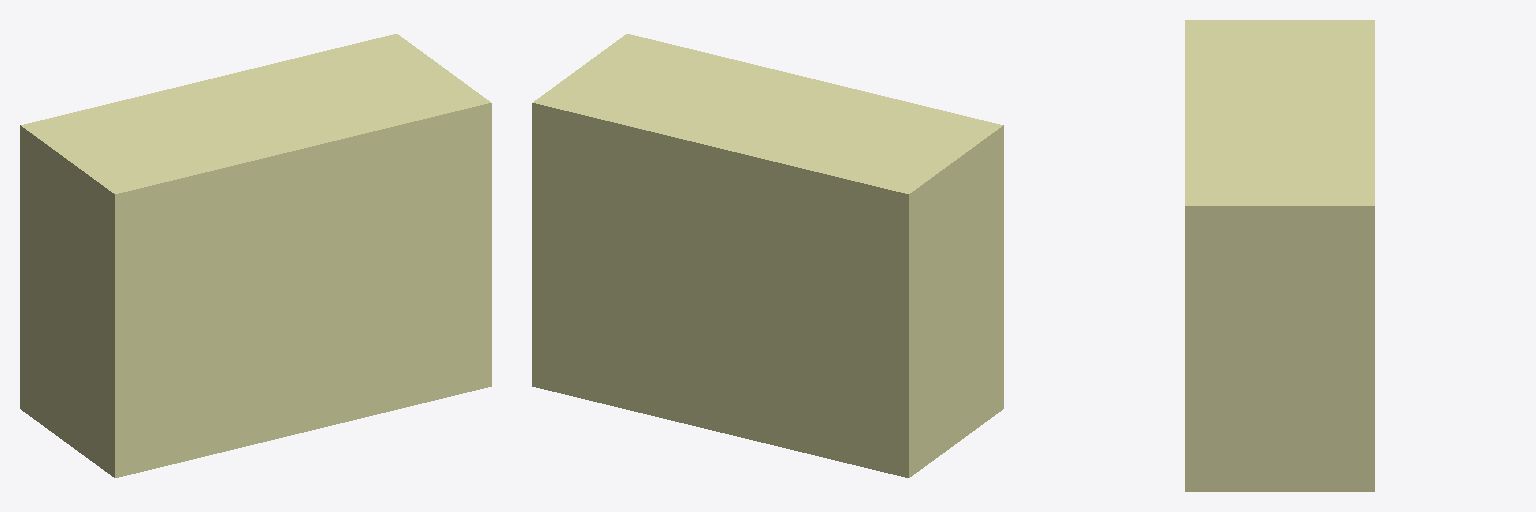
robot.urdf — box.urdf:
<?xml version="1.0" ?>
<robot name="box.urdf">
  <link name="baseLink">
    <contact>
      <lateral_friction value="1.0"/>
      <rolling_friction value="0.0001"/>
      <inertia_scaling value="3.0"/>
    </contact>
    <inertial>
      <origin rpy="0 0 0" xyz="0 0 0"/>
       <mass value="0.1"/>
       <inertia ixx="1" ixy="0" ixz="0" iyy="1" iyz="0" izz="1"/>
    </inertial>
    <visual>
      <origin rpy="0 0 0" xyz="0 0 0"/>
      <geometry>
        <!-- <box size="0.315 0.13699999999999998 0.22699999999999998"/> -->
        <mesh filename="box/box.obj" scale="0.315 0.13699999999999998 0.22699999999999998"/>
      </geometry>
      <material name="white">
        <color rgba="0.9 0.9 0.7 1"/>
      </material>
    </visual>
    <collision>
      <origin rpy="0 0 0" xyz="0 0 0"/>
      <geometry>
        <mesh filename="box/box.obj" scale="0.315 0.13699999999999998 0.22699999999999998"/>
	 	    <!-- <box size="0.315 0.13699999999999998 0.22699999999999998"/> -->
      </geometry>
    </collision>
  </link>
</robot>

--- What the picture shows (computed from the rendered views, not written in the file) ---
3 views of the same robot in one strip: view 1: azimuth 30°, elevation 25°; view 2: azimuth 150°, elevation 25°; view 3: azimuth 270°, elevation 25° (orthographic).
Robot: box.urdf — 1 links, 0 joints (none); root link baseLink; default pose: every joint at zero.
Visible links, largest first — view 1: baseLink; view 2: baseLink; view 3: baseLink.
Boxes of the visible links, x1=… form: baseLink: x1=20, y1=34, x2=491, y2=477; baseLink: x1=532, y1=34, x2=1003, y2=477; baseLink: x1=1185, y1=20, x2=1374, y2=491.
Bounding box of the posed robot: 0.315 × 0.137 × 0.227 m (x, y, z).
1 mesh visuals loaded from 1 distinct referenced files (1 OBJ).
